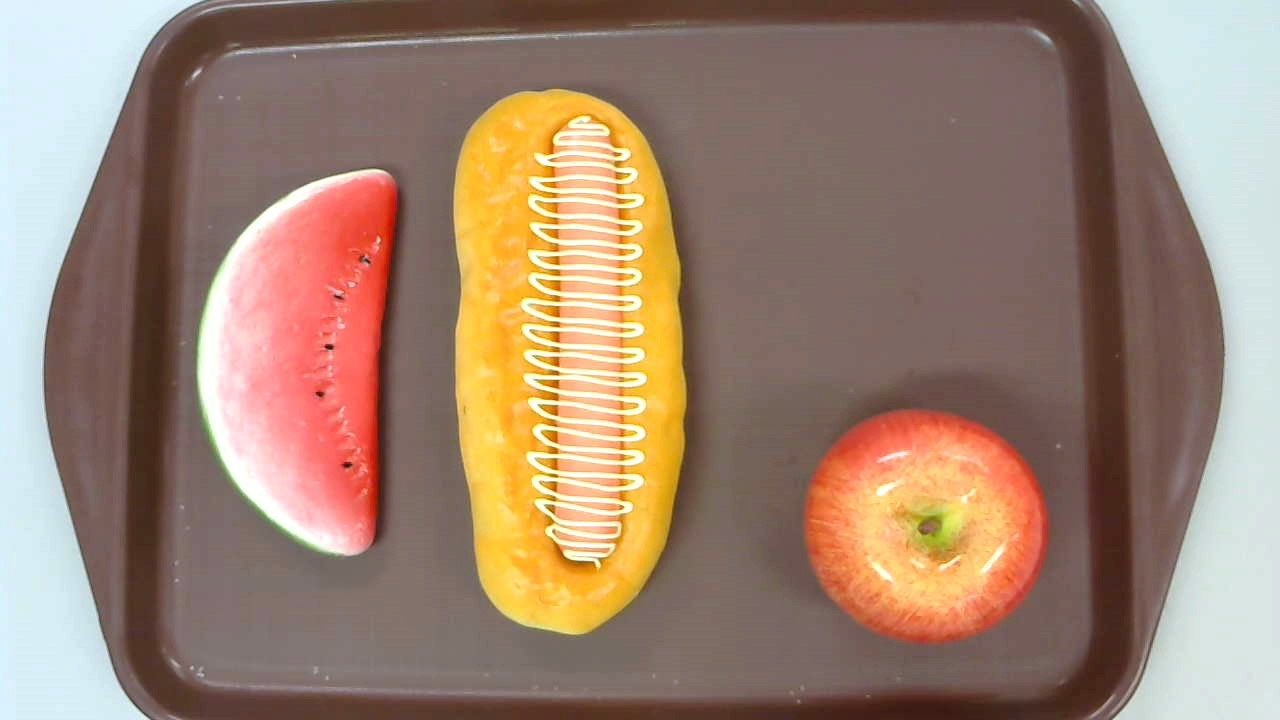hot dog: (453, 88, 687, 635)
red apple: (802, 409, 1049, 650)
water melon: (191, 167, 397, 559)
